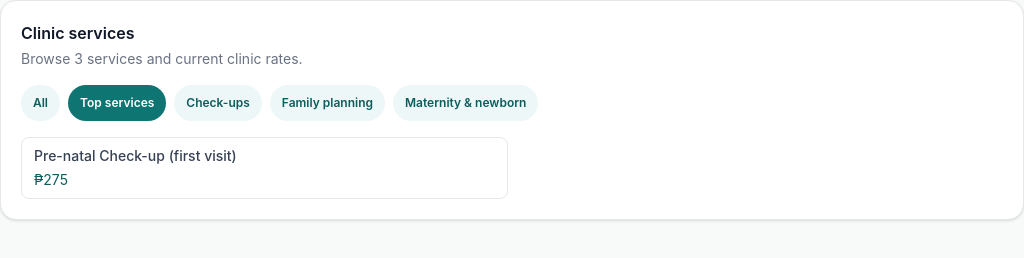
Test: patient clinic service prices › refreshes prices and availability when the patient returns to the tab
This screenshot has width=1024, height=258.
Click the button "All" at (40, 103), box [21,85,60,121]
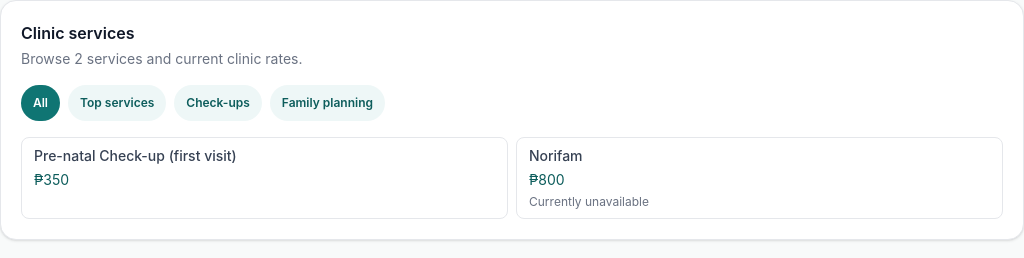
Expected: the text "₱350" is shown, [34,171,69,188]
Expected: the text "₱275" is gone
Expected: the text "Norifam" is shown, [529,147,583,164]
